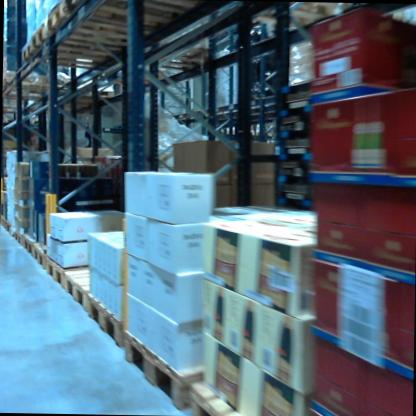pallet: (125, 323, 209, 413), (42, 4, 164, 46), (239, 4, 351, 42), (29, 23, 148, 58), (19, 40, 141, 72), (60, 269, 127, 319), (44, 250, 107, 298), (82, 287, 127, 354), (188, 381, 267, 416), (141, 42, 210, 77), (3, 69, 66, 92), (33, 241, 53, 273), (20, 231, 36, 257), (10, 225, 20, 243), (3, 218, 11, 235)
